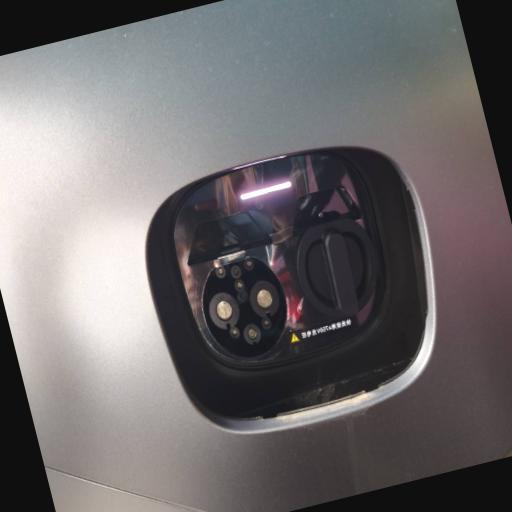DC_hole: (204, 288, 246, 336), (244, 276, 284, 322)
PE: (240, 320, 266, 348)
charging_port: (190, 247, 300, 370)
